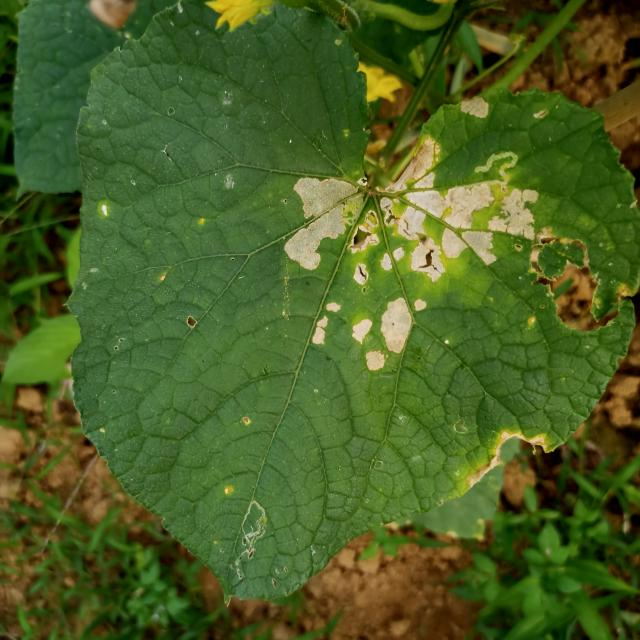disease_cucumber: (273, 137, 543, 381)
